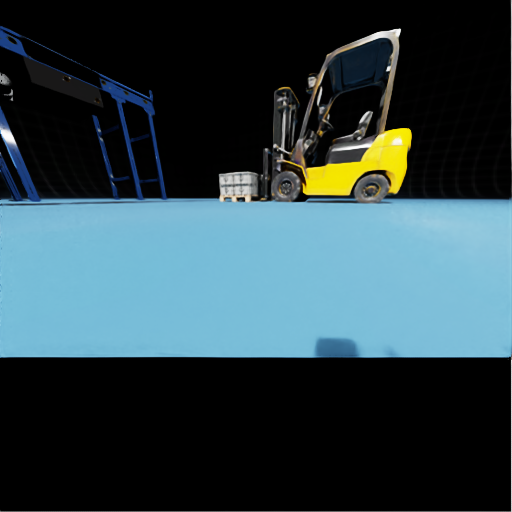transportation_area: (234, 184, 255, 194), (257, 185, 261, 194)
